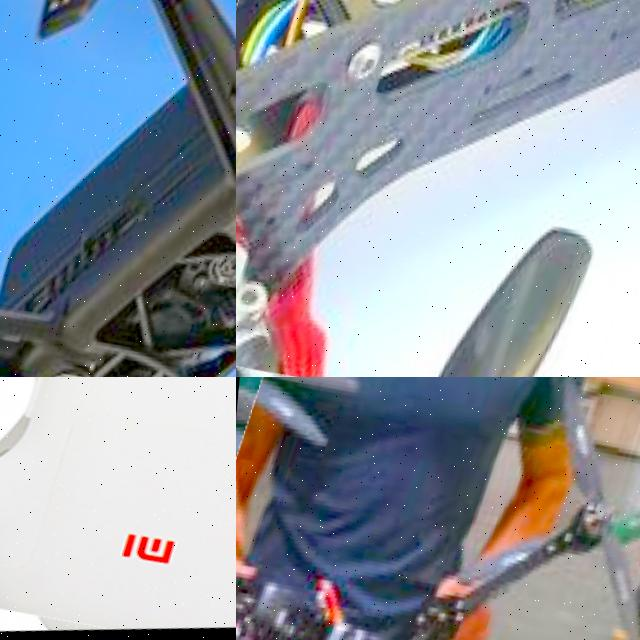drone: (236, 0, 640, 377), (236, 377, 640, 640), (0, 0, 236, 377), (0, 377, 236, 640)
